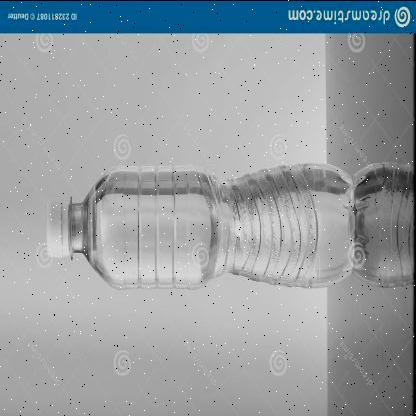Plastic Bottle: (47, 163, 362, 288)
